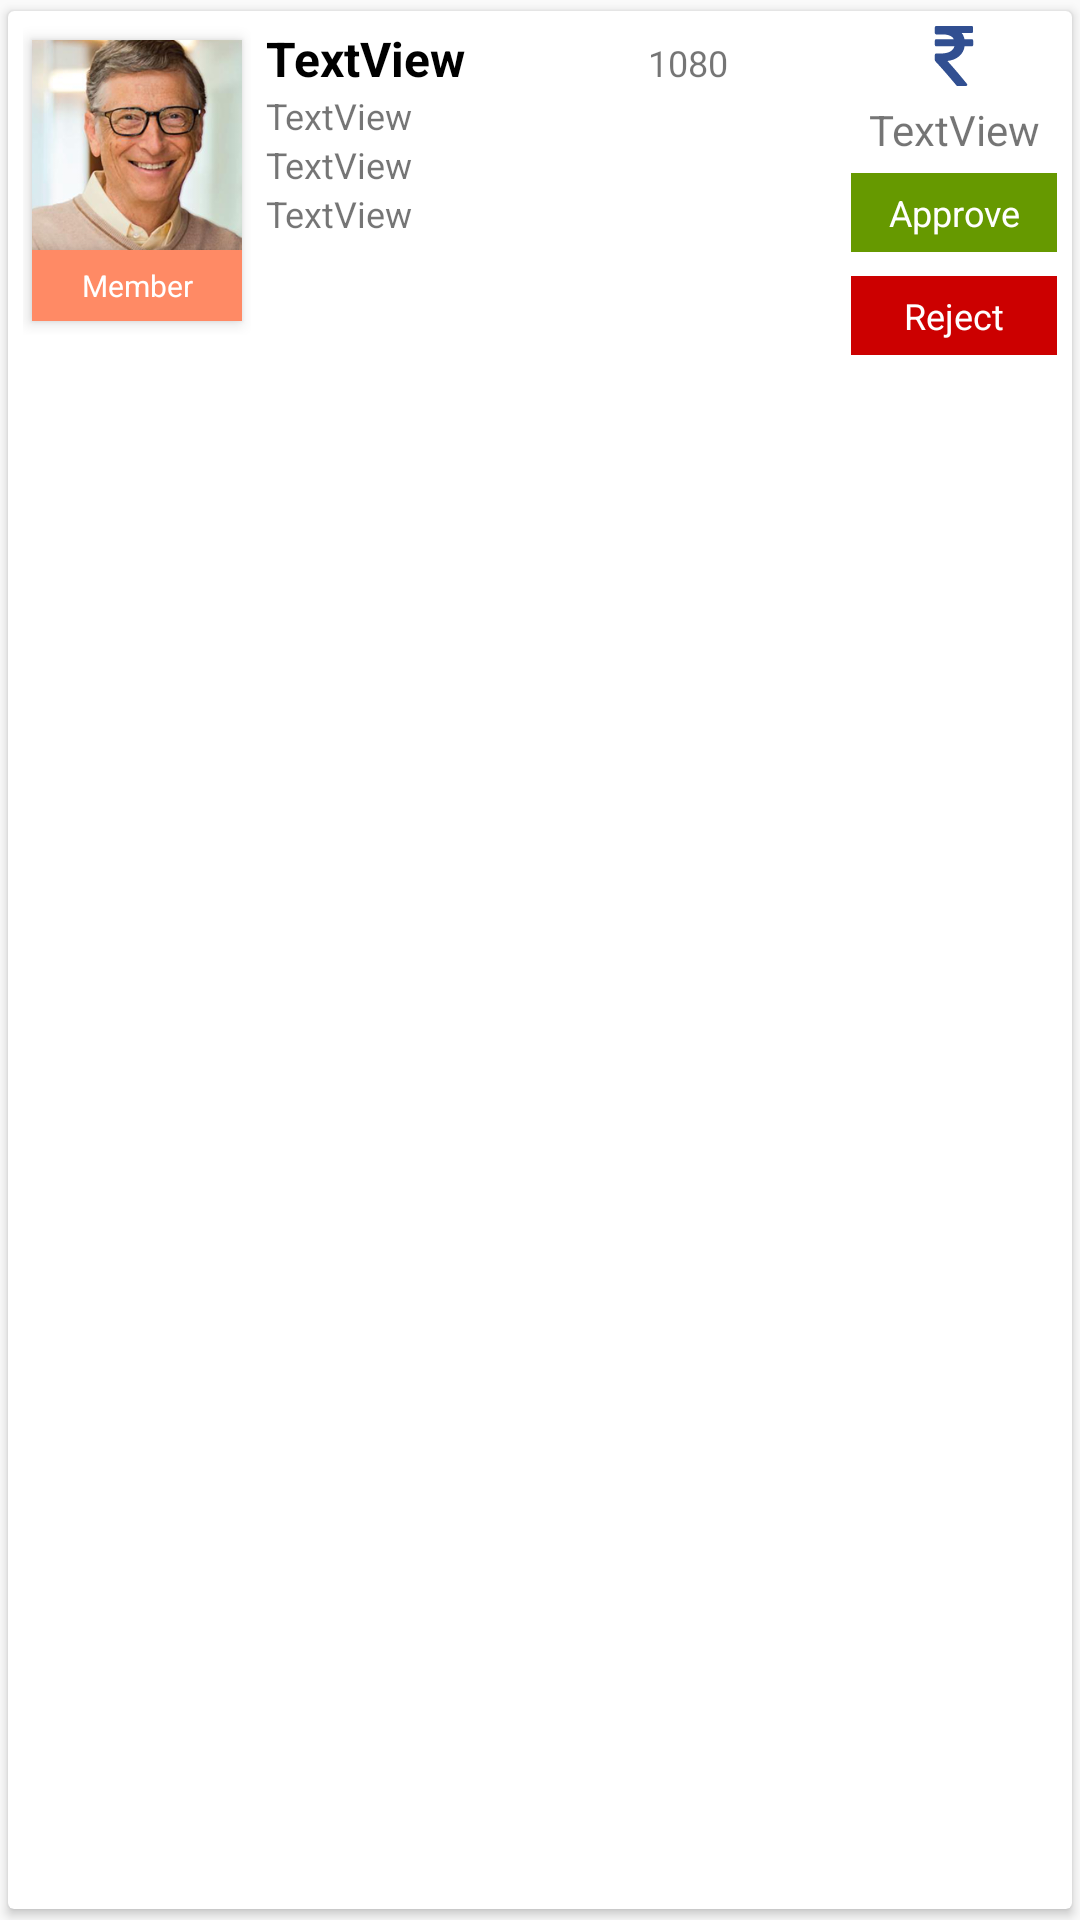

Icon bounding boxes for this 1080px x 1920px phone screenshot, format (x1, y1, x2, y2):
donations: (934, 26, 974, 86)
